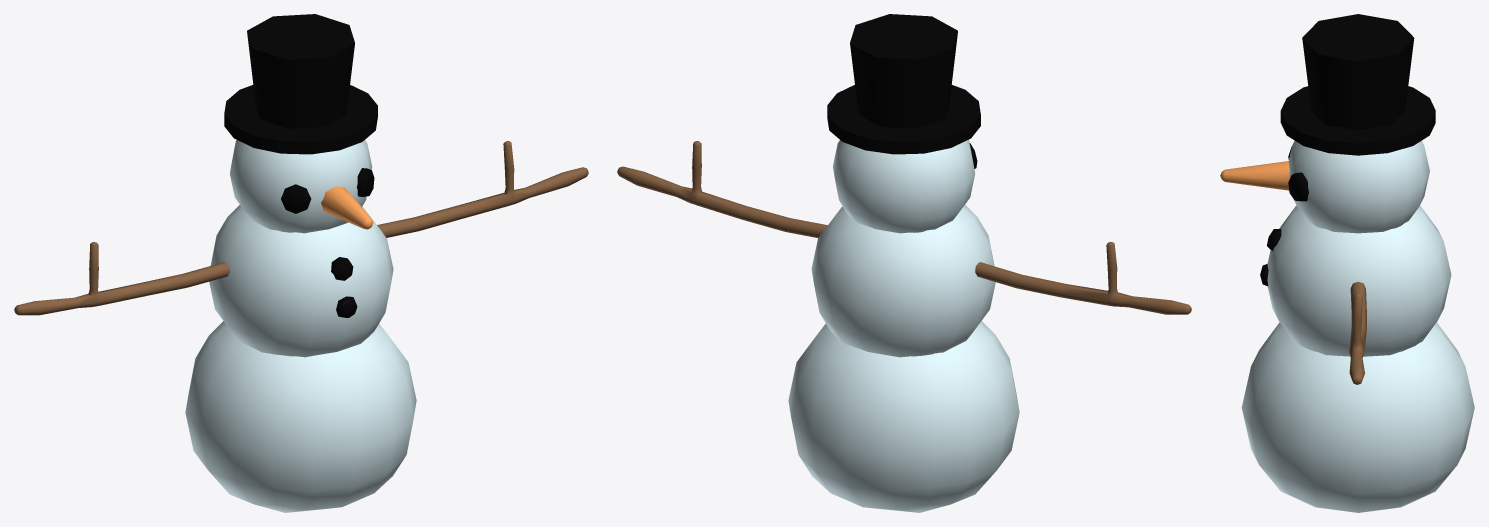
The model's file is Snowman.fbx.
3 views of the same model, side by side, from view 1: azimuth 30°, elevation 25°; view 2: azimuth 150°, elevation 25°; view 3: azimuth 270°, elevation 25° (orthographic).
Parts seen in each view (by area): view 1: Cube; view 2: Cube; view 3: Cube.
Part boxes in pixels (box(x1,y1,x2,y2)): Cube: box(14, 14, 588, 512); Cube: box(617, 14, 1191, 512); Cube: box(1220, 14, 1474, 512).
Size of the model in its own units: 187 by 485 by 373.
Materials: 1 (1 with a texture image).
